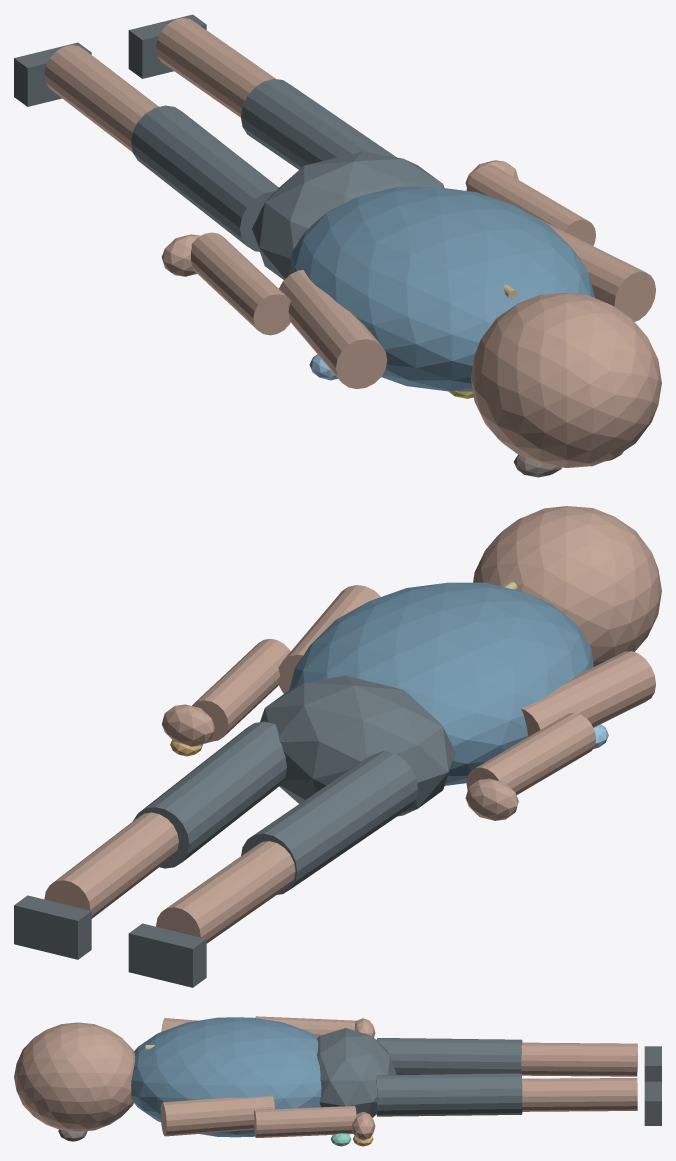
Rendered from patient-vitals-medium.glb.
3 renders of one model, top to bottom at view 1: azimuth 30°, elevation 25°; view 2: azimuth 150°, elevation 25°; view 3: azimuth 270°, elevation 25°, orthographic. The views are drawn at different scales.
Visible parts, largest first — view 1: torso, head, left_thigh, pelvis, right_thigh, left_upper_arm, left_lower_leg, right_lower_leg, left_forearm, right_upper_arm, right_forearm, left_foot (+2 smaller); view 2: torso, head, pelvis, left_thigh, right_thigh, left_lower_leg, right_lower_leg, left_upper_arm, left_forearm, right_forearm, left_foot, right_foot (+3 smaller); view 3: torso, head, right_thigh, pelvis, left_thigh, left_lower_leg, right_lower_leg, right_upper_arm, right_forearm, left_forearm, right_foot, left_foot (+5 smaller).
Part boxes in pixels (bbox=[...]): torso: bbox=[289, 186, 594, 391]; head: bbox=[471, 293, 661, 467]; left_thigh: bbox=[131, 105, 278, 251]; pelvis: bbox=[252, 151, 444, 279]; right_thigh: bbox=[241, 79, 396, 169]; left_upper_arm: bbox=[279, 270, 387, 388]; left_lower_leg: bbox=[44, 45, 158, 151]; right_lower_leg: bbox=[156, 18, 275, 117]; left_forearm: bbox=[190, 232, 290, 335]; right_upper_arm: bbox=[535, 217, 655, 321]; right_forearm: bbox=[466, 164, 595, 245]; left_foot: bbox=[14, 42, 91, 106]; torso: bbox=[289, 582, 593, 785]; head: bbox=[473, 506, 661, 666]; pelvis: bbox=[260, 675, 455, 816]; left_thigh: bbox=[241, 751, 417, 894]; right_thigh: bbox=[133, 721, 286, 868]; left_lower_leg: bbox=[156, 841, 295, 943]; right_lower_leg: bbox=[44, 812, 178, 918]; left_upper_arm: bbox=[521, 651, 655, 736]; left_forearm: bbox=[466, 712, 595, 794]; right_forearm: bbox=[192, 638, 290, 741]; left_foot: bbox=[128, 923, 206, 987]; right_foot: bbox=[14, 895, 91, 959]; torso: bbox=[131, 1017, 321, 1137]; head: bbox=[14, 1022, 134, 1131]; right_thigh: bbox=[376, 1073, 522, 1116]; pelvis: bbox=[317, 1028, 396, 1117]; left_thigh: bbox=[376, 1038, 522, 1074]; left_lower_leg: bbox=[521, 1042, 637, 1076]; right_lower_leg: bbox=[522, 1078, 637, 1111]; right_upper_arm: bbox=[160, 1095, 274, 1136]; right_forearm: bbox=[254, 1105, 356, 1137]; left_forearm: bbox=[255, 1016, 356, 1036]; right_foot: bbox=[644, 1081, 661, 1125]; left_foot: bbox=[644, 1046, 661, 1081].
Size of the model in its own units: 2.1 by 0.93 by 5.27.
